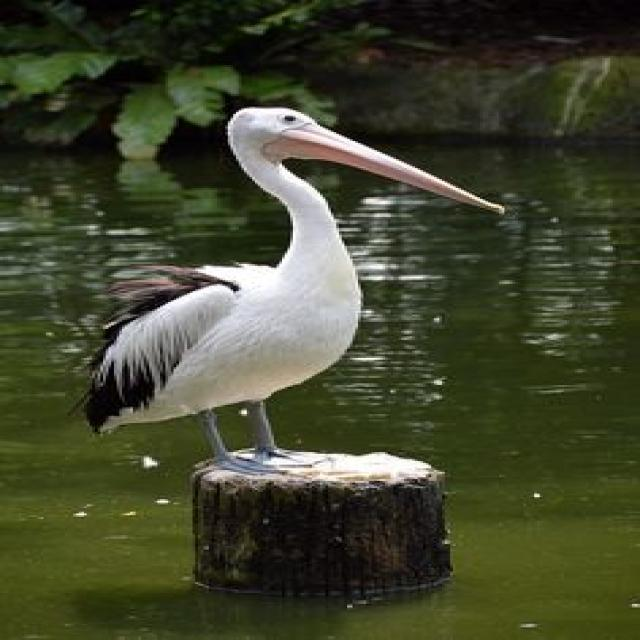Carnivorous: (84, 107, 502, 465)
